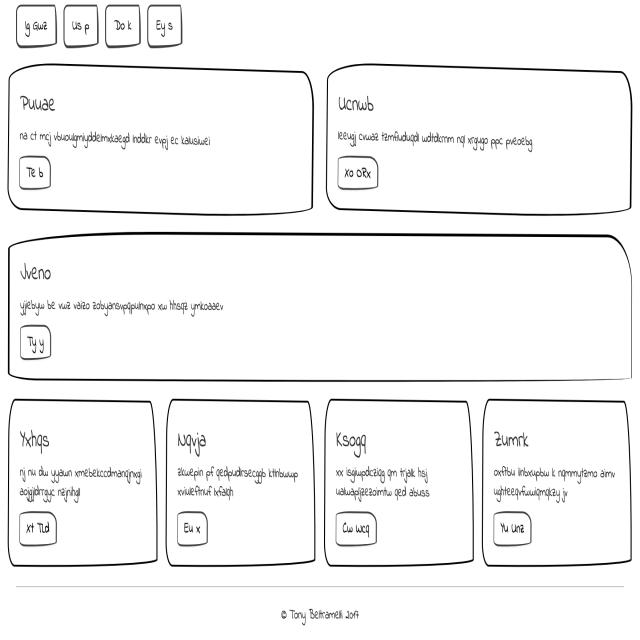Button: (333, 506, 383, 550), (335, 154, 387, 196), (490, 506, 536, 548), (16, 504, 59, 548), (173, 508, 214, 552), (17, 152, 57, 192), (17, 321, 53, 363)
Card: (8, 232, 636, 391), (323, 58, 636, 221), (6, 62, 316, 222), (7, 399, 161, 580), (321, 396, 477, 570), (480, 398, 636, 569), (167, 398, 318, 570)
Footer: (1, 581, 640, 640)
Heading 6: (490, 418, 535, 460), (15, 86, 64, 123), (334, 87, 381, 121), (333, 424, 373, 460), (17, 418, 52, 459), (174, 426, 214, 460), (16, 255, 56, 286)
Navigation Bar: (9, 0, 200, 57)
Paragraph: (335, 121, 543, 154), (492, 459, 622, 506), (16, 124, 219, 154), (15, 460, 146, 503), (15, 290, 229, 316), (177, 463, 302, 504), (332, 458, 431, 504)
